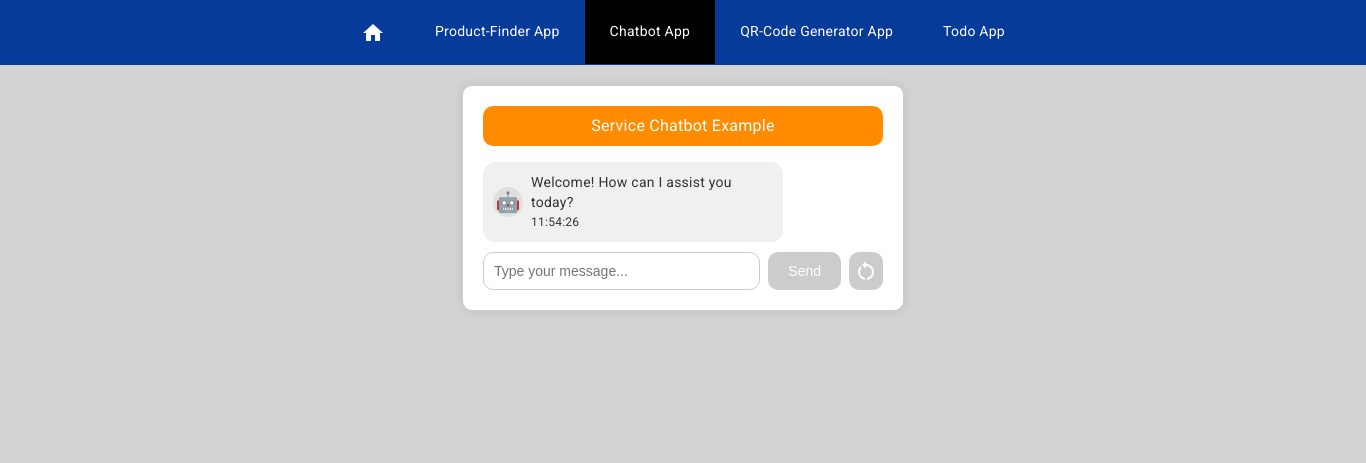
Test case: chatbot-app › should display the chat-container, check the buttons, write something and get a response
Check: the element with class "chat-container" is shown, box left=462, top=85, right=904, bottom=311
Check: the button "Send" is disabled, box left=768, top=252, right=841, bottom=290
Type "Hello" into the field with placeholder "Type your message...".
click(622, 271); type("Hello")  # box left=483, top=252, right=760, bottom=290
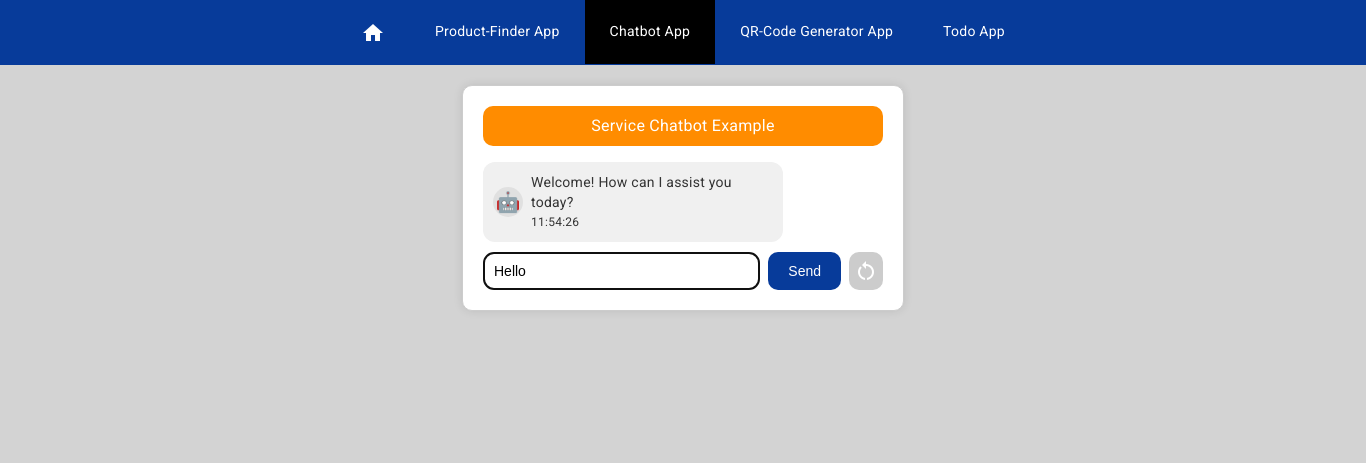
Click the button "Send".
click(805, 271)  # box left=768, top=252, right=841, bottom=290
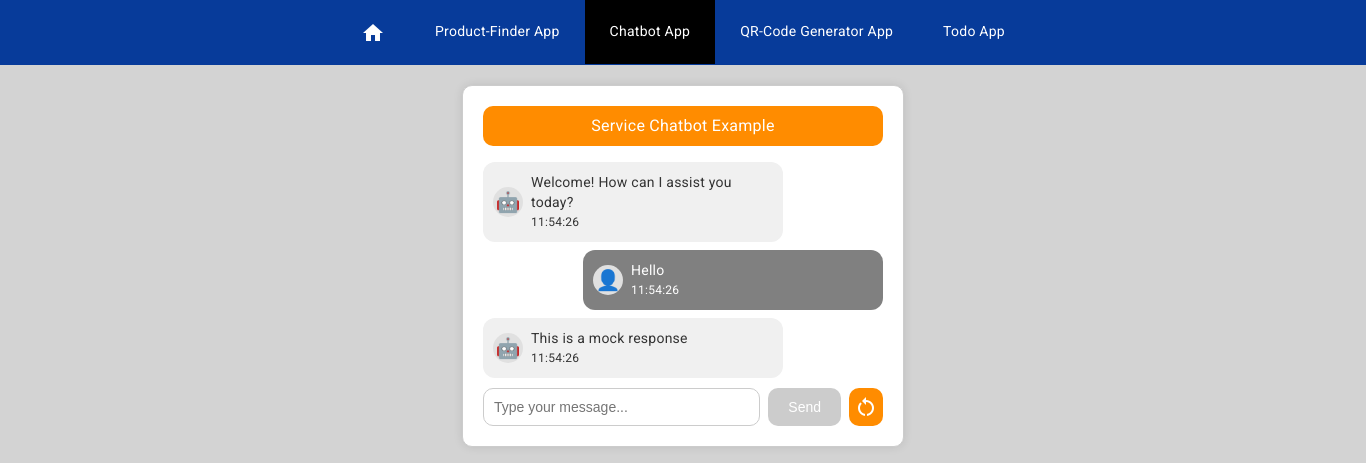
Check: the text "This is a mock response" is shown, box left=531, top=330, right=688, bottom=346
Check: the button "Send" is disabled, box left=768, top=388, right=841, bottom=426
Check: the element with class "message-container" shows "Hello", box left=631, top=262, right=664, bottom=278
Click the 2nd button.
click(866, 407)  # box left=849, top=388, right=883, bottom=426
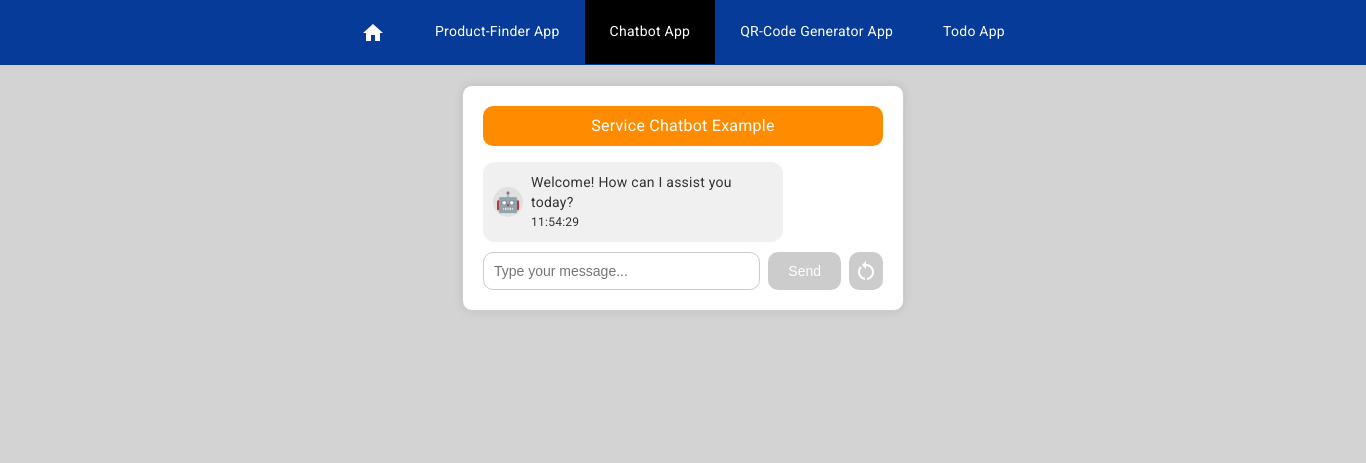
Check: the element with class "message-container" no longer shows "Hello"
